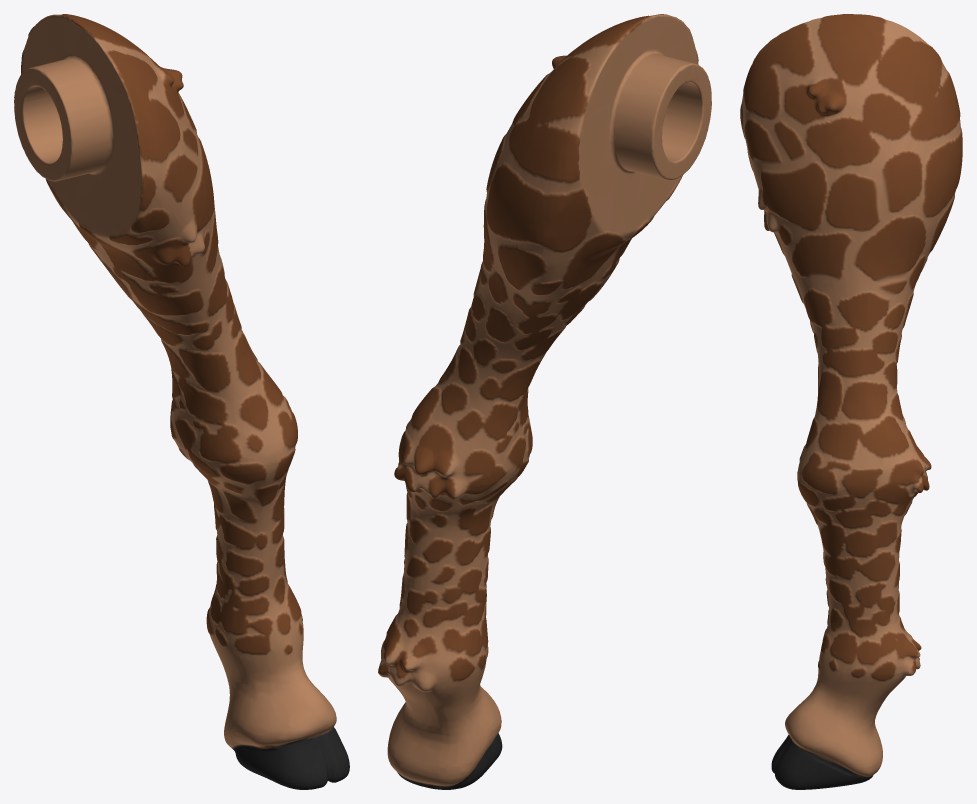
The model's file is Bras_Girafe_lft.glb.
3 views of the same model, side by side, from view 1: azimuth 30°, elevation 25°; view 2: azimuth 150°, elevation 25°; view 3: azimuth 270°, elevation 25° (orthographic). The views are drawn at different scales.
Visible parts, largest first — view 1: Bras_Girafe_lft; view 2: Bras_Girafe_lft; view 3: Bras_Girafe_lft.
Boxes of the visible parts, x1,y1,x2,y2 form: Bras_Girafe_lft: (14, 14, 349, 789); Bras_Girafe_lft: (378, 14, 711, 789); Bras_Girafe_lft: (740, 14, 962, 789).
Bounding box in the file's own units: 2.38 × 6.35 × 1.89.
